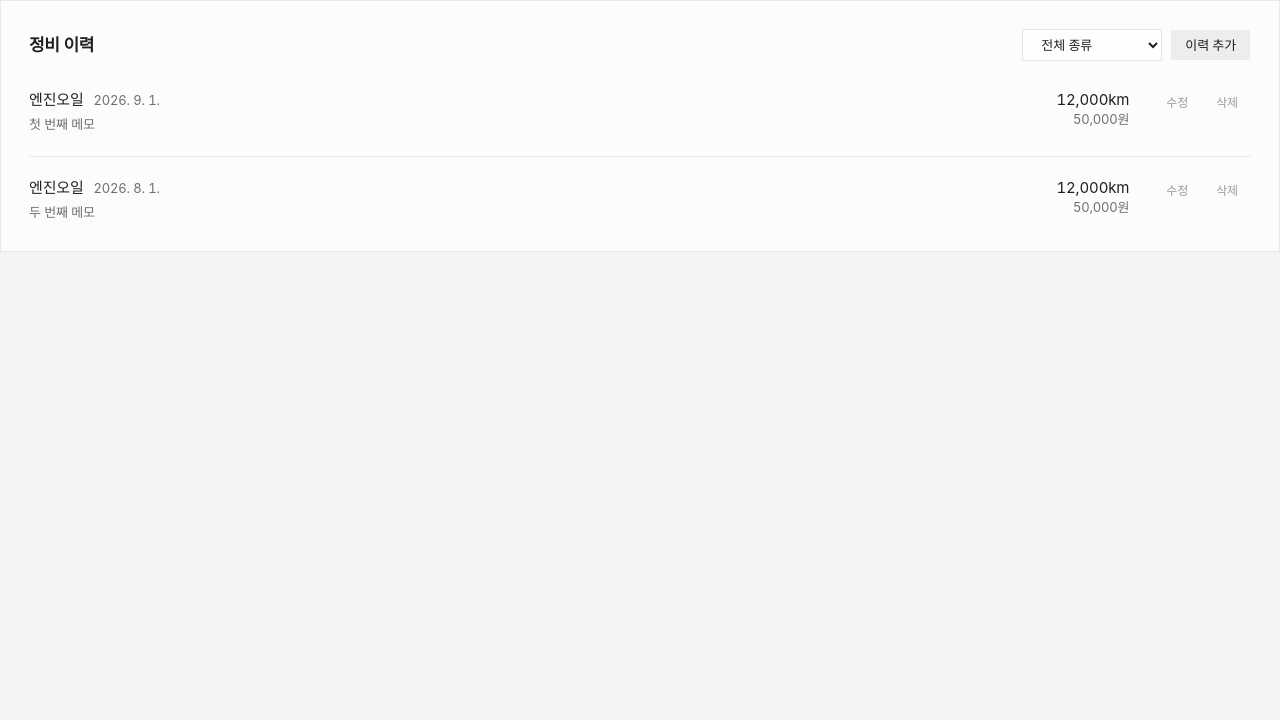
Test: MaintenanceSection › 폼을 연 채 다른 행의 수정을 누르면 그 행의 값으로 바뀐다
Click the button "수정" in the row of "2026. 9. 1." at [1177, 103], box top-left (1153, 89), bottom-right (1201, 117)
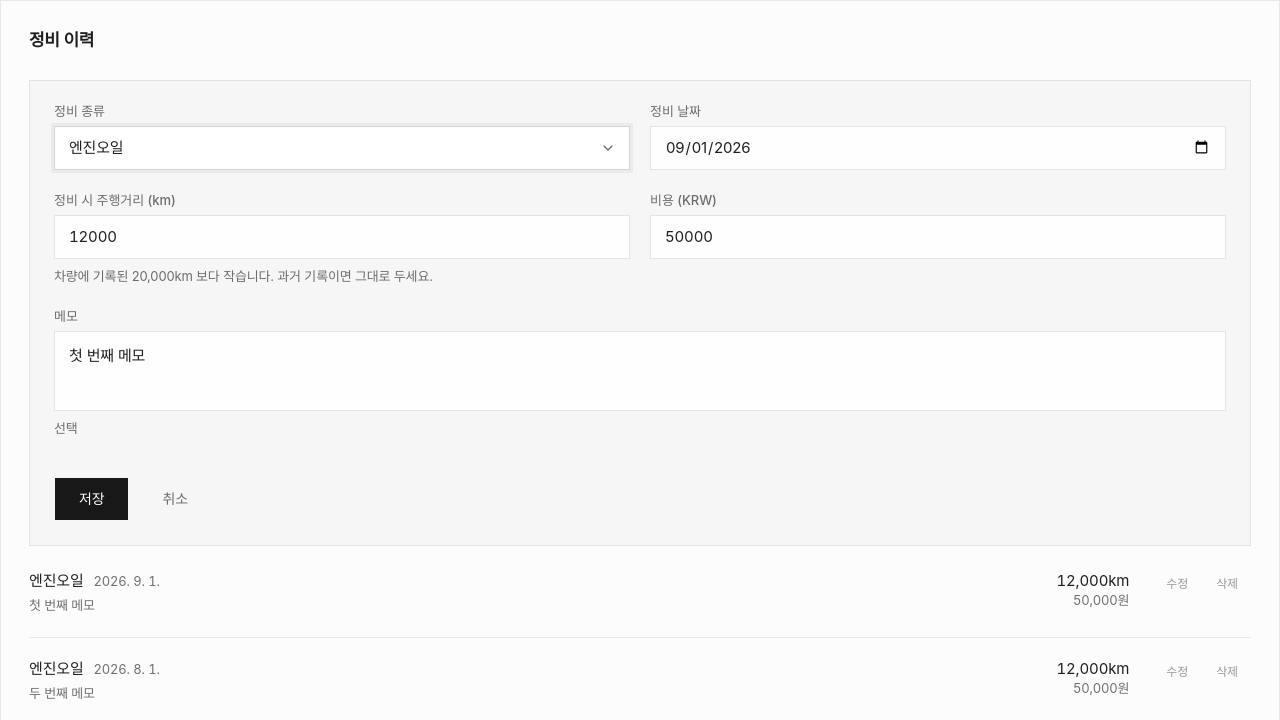
Now the text box labelled "메모" holds "첫 번째 메모"
Replace the text in the text box labelled "메모" with "고치던 중" at [640, 370], box top-left (54, 330), bottom-right (1226, 410)
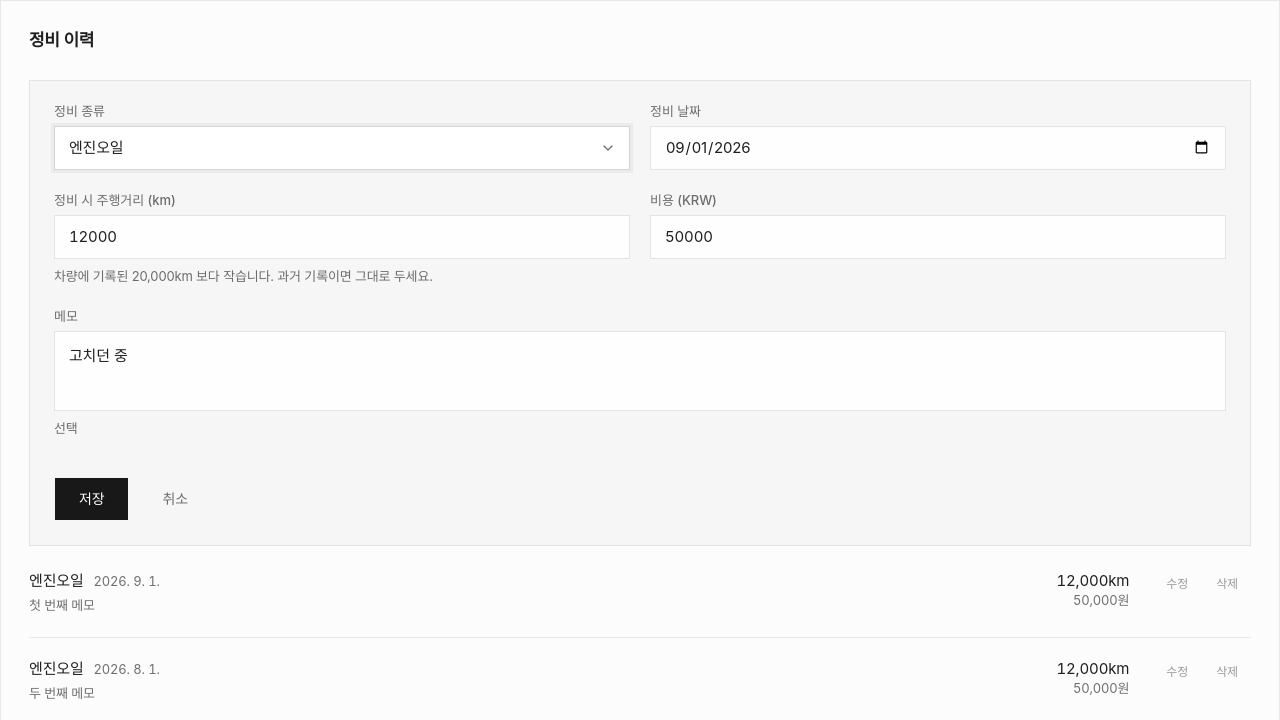
Click the button "수정" in the row of "2026. 8. 1." at [1177, 672], box top-left (1153, 658), bottom-right (1201, 686)
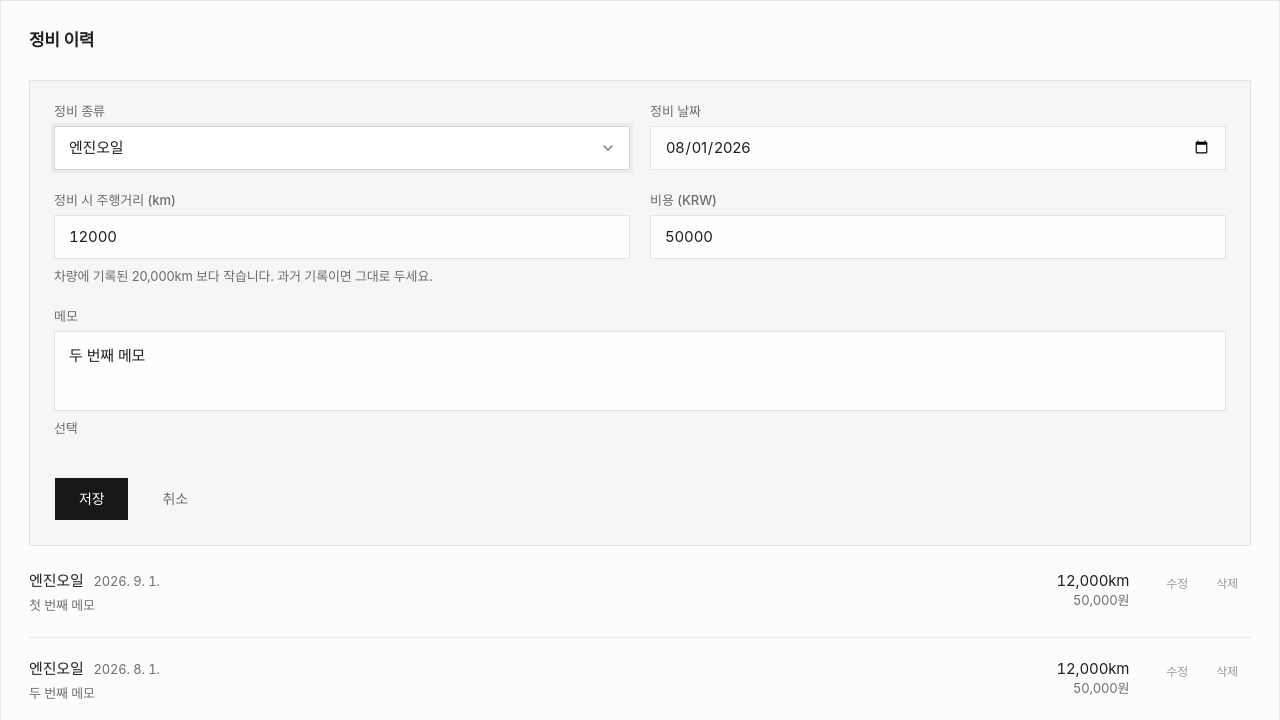
Now the text box labelled "메모" holds "두 번째 메모", box top-left (54, 330), bottom-right (1226, 410)
